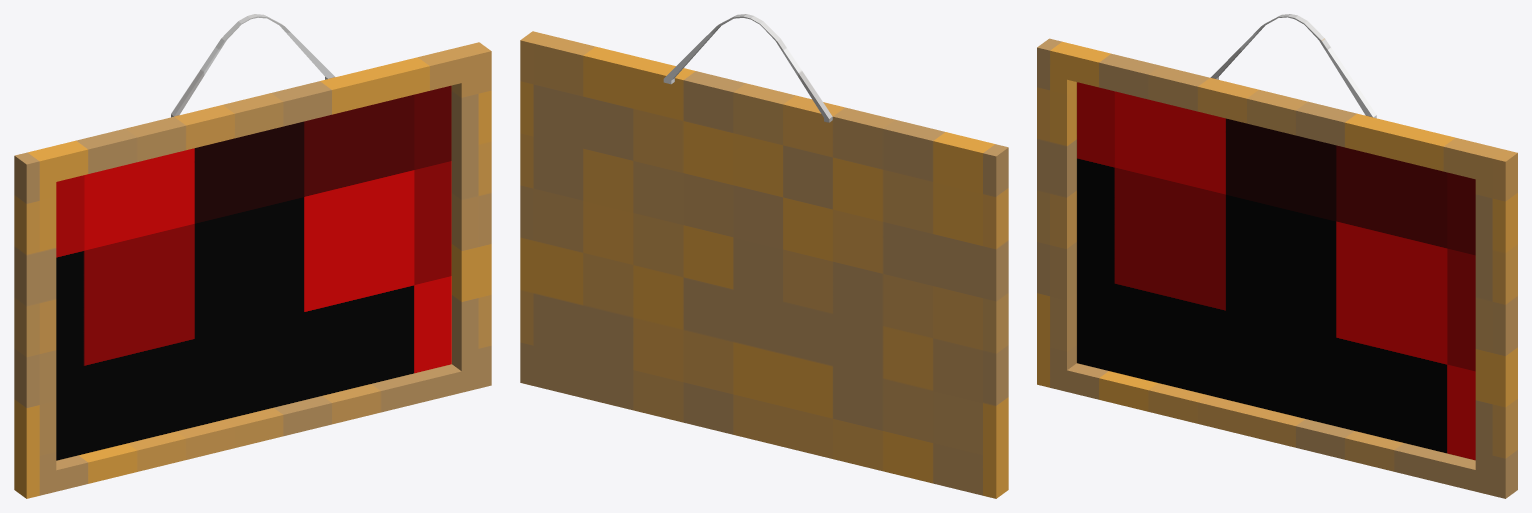
File: picframe1.fbx
The picture shows the model from 3 angles, left to right: view 1: azimuth 30°, elevation 25°; view 2: azimuth 150°, elevation 25°; view 3: azimuth 330°, elevation 25°; orthographic projection. The views are drawn at different scales.
Visible parts, largest first — view 1: picframe1; view 2: picframe1; view 3: picframe1.
Boxes of the visible parts, x1=… form: picframe1: x1=14, y1=14, x2=491, y2=498; picframe1: x1=520, y1=14, x2=1008, y2=498; picframe1: x1=1037, y1=14, x2=1517, y2=498.
Size of the model in its own units: 136 by 116 by 7.91.
3 materials, 3 textured.
